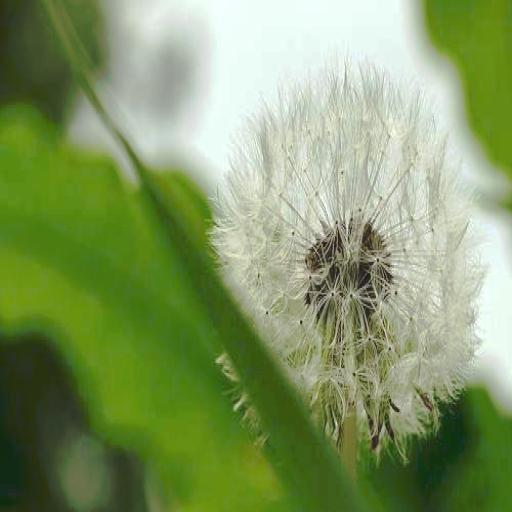dandelion: (209, 62, 480, 461)
